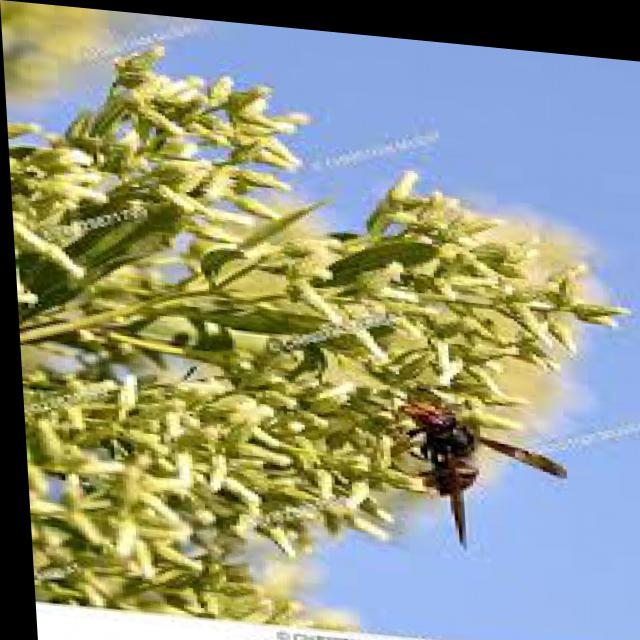Vespa Velutina: (384, 380, 572, 556)
